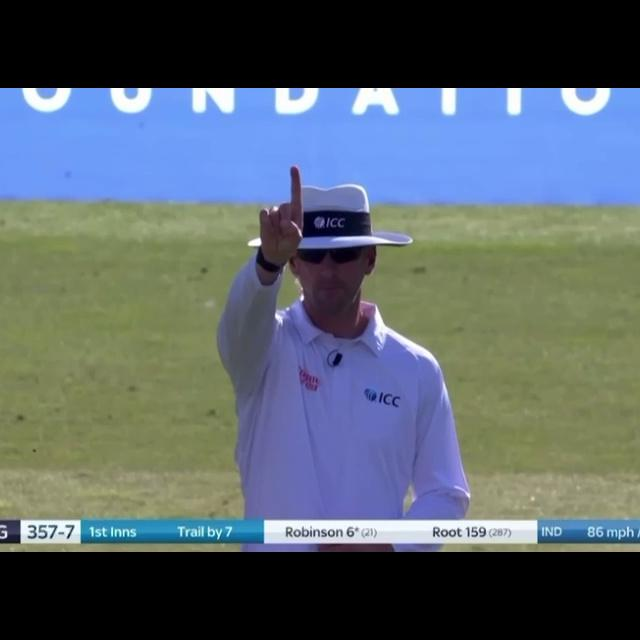umpire: (202, 155, 479, 545)
